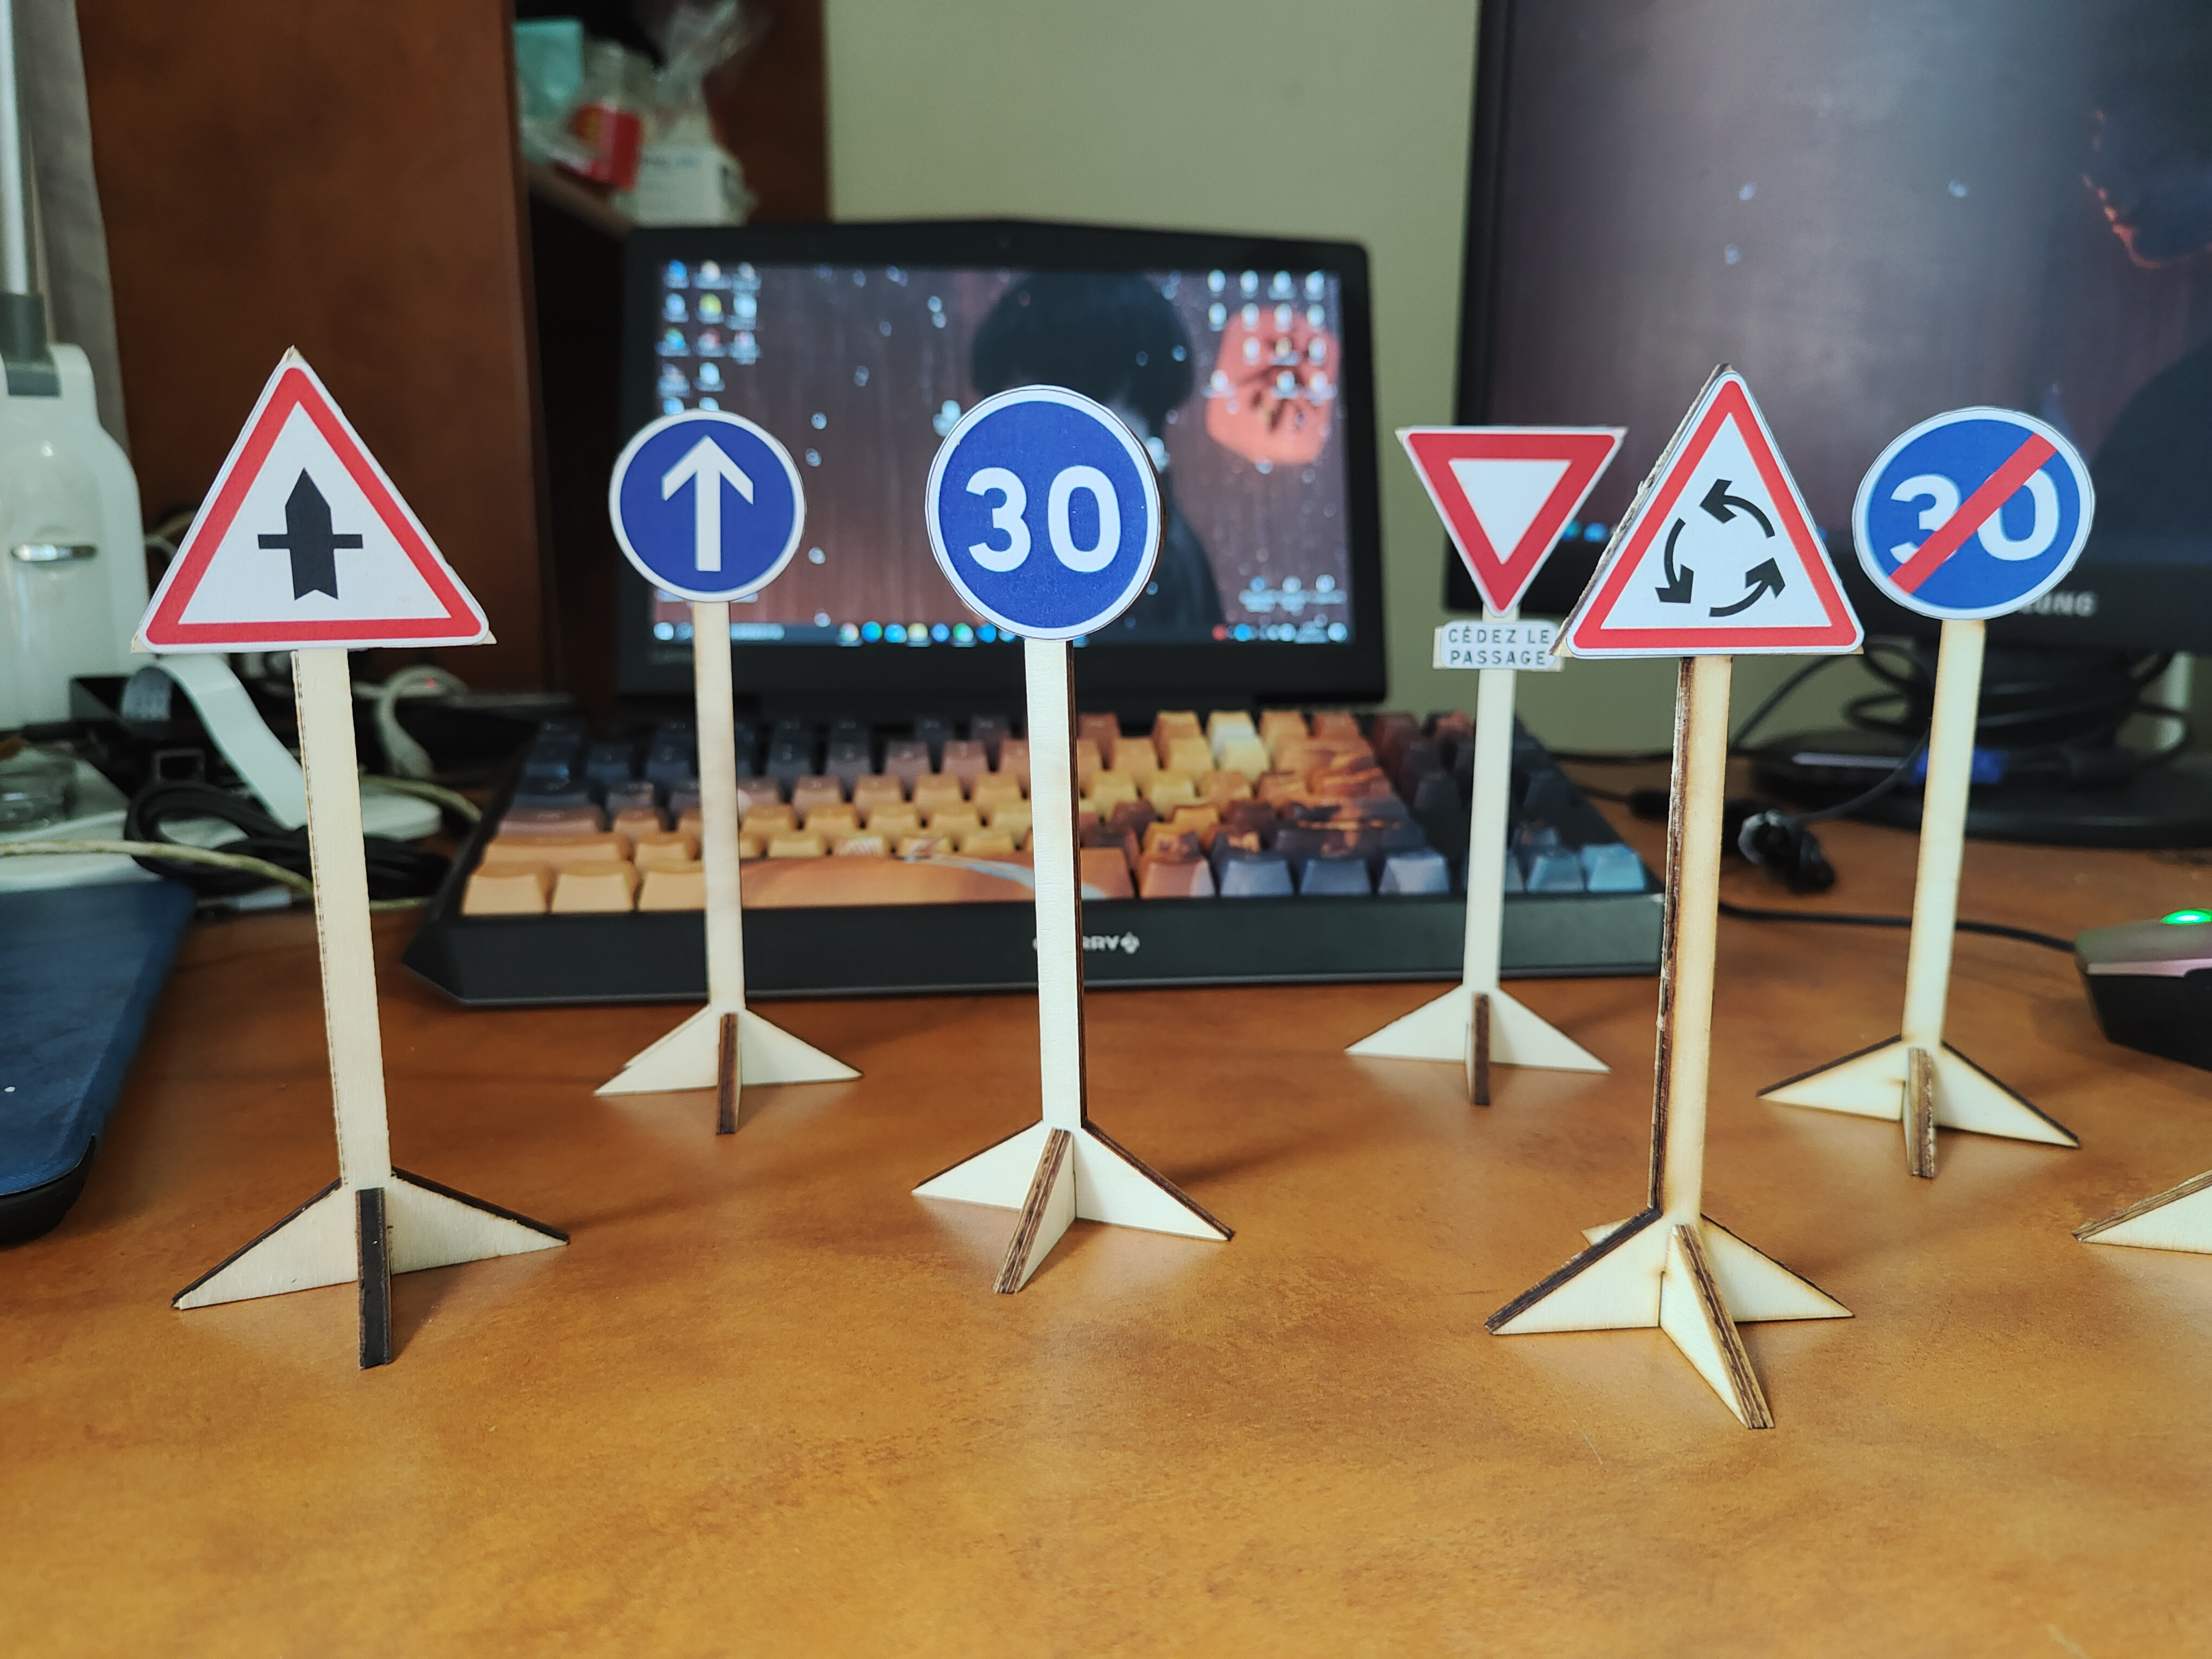ban: (1850, 401, 2094, 620)
cycle: (1571, 357, 1858, 650)
first: (134, 349, 509, 648)
second: (1397, 416, 1606, 667)
straight: (606, 403, 799, 606)
thirty: (925, 373, 1176, 638)
